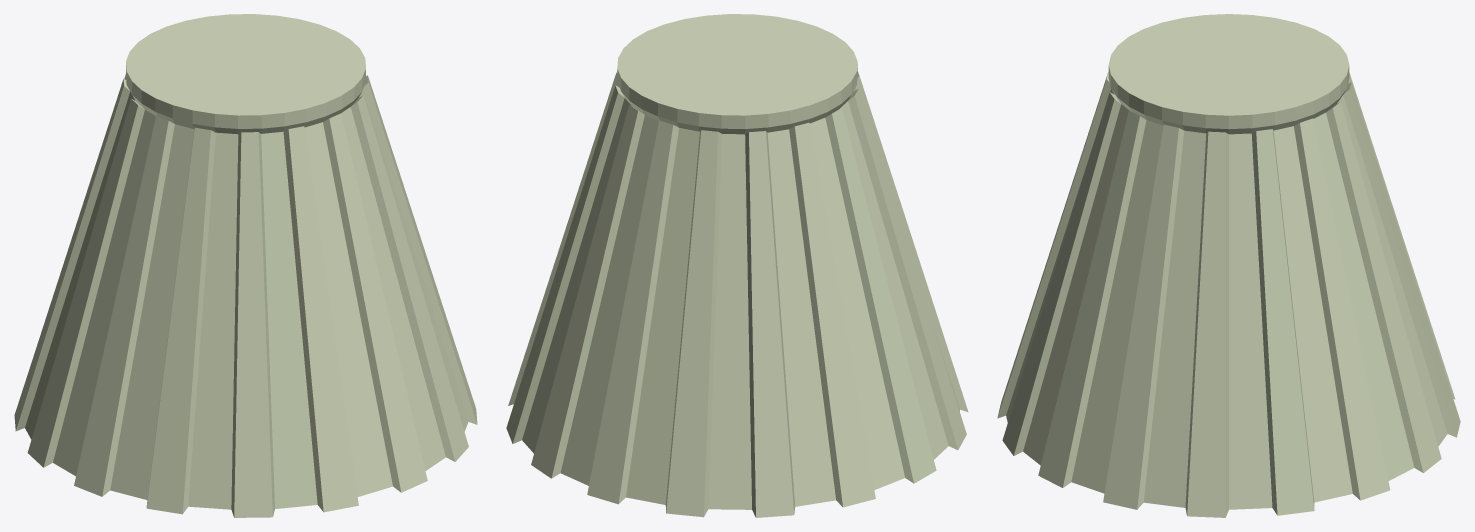
File: lampshade.gltf
The picture shows the model from 3 angles, left to right: view 1: azimuth 30°, elevation 25°; view 2: azimuth 150°, elevation 25°; view 3: azimuth 270°, elevation 25°; orthographic projection.
Parts seen in each view (by area): view 1: Cylinder.003; view 2: Cylinder.003; view 3: Cylinder.003.
Boxes of the visible parts, x1,y1,x2,y2 form: Cylinder.003: (14, 14, 477, 517); Cylinder.003: (506, 14, 968, 517); Cylinder.003: (997, 14, 1460, 517).
Bounding box in the file's own units: 2.54 × 2.15 × 2.54.
